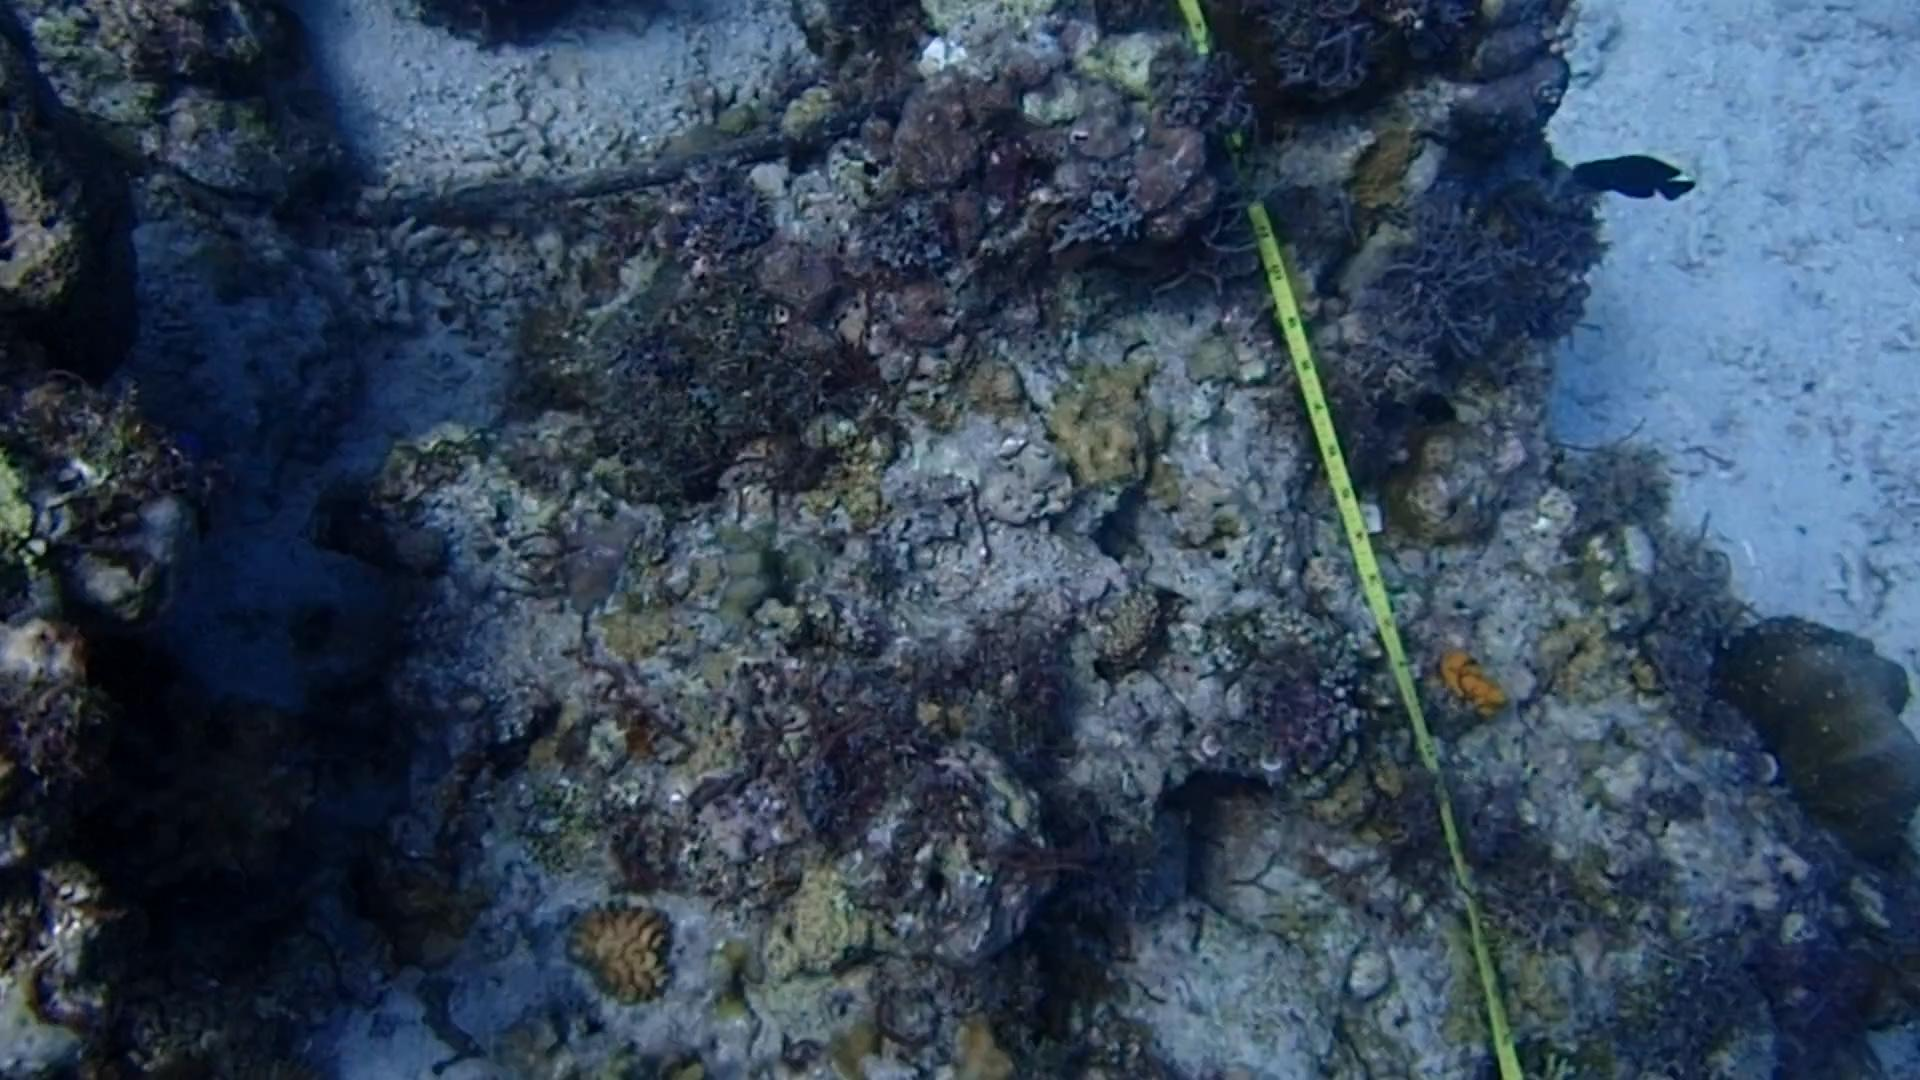Dark Fish: (1556, 142, 1704, 222)
